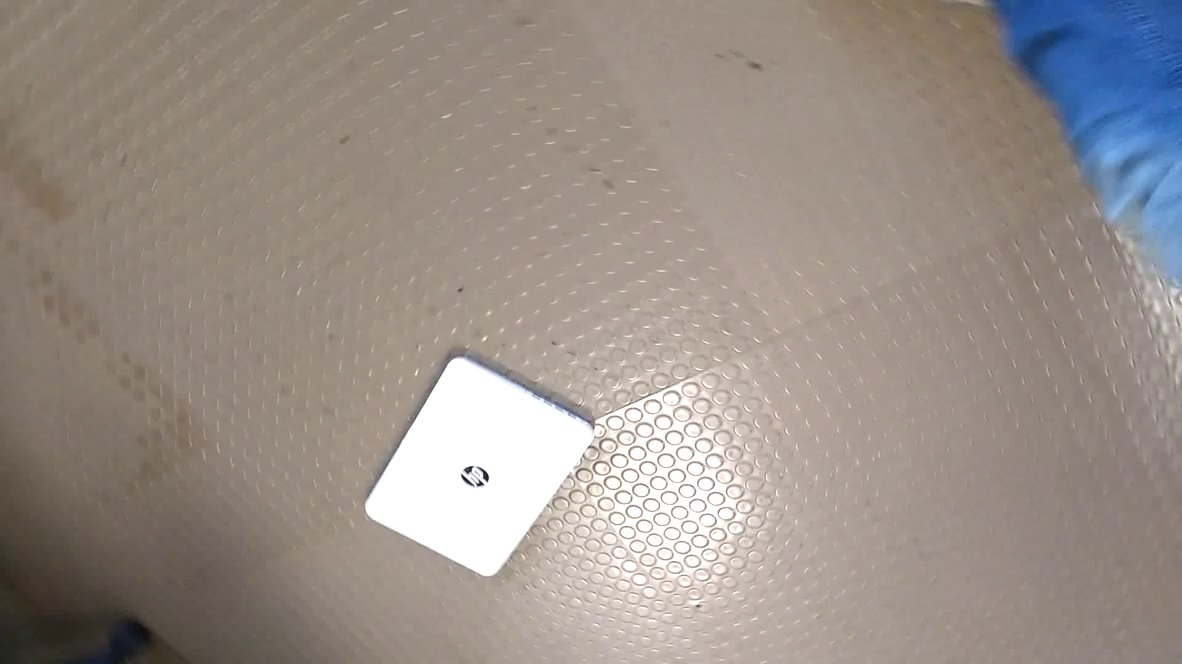laptop: (362, 347, 609, 586)
